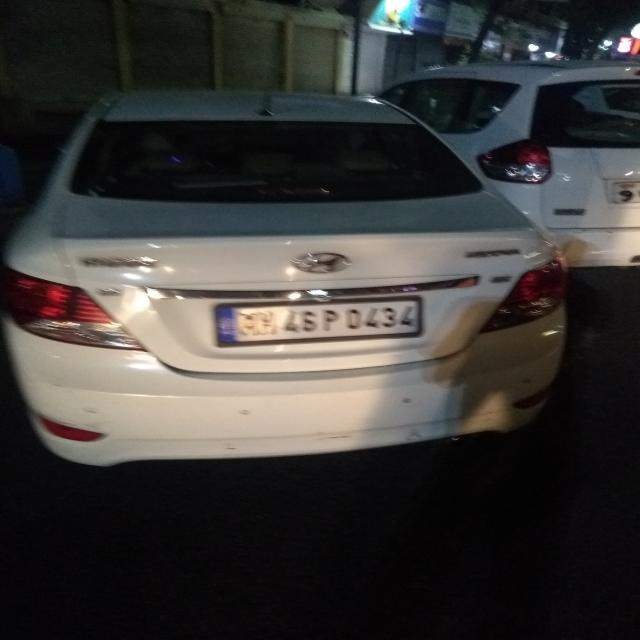Number-Plate: (220, 302, 417, 342)
